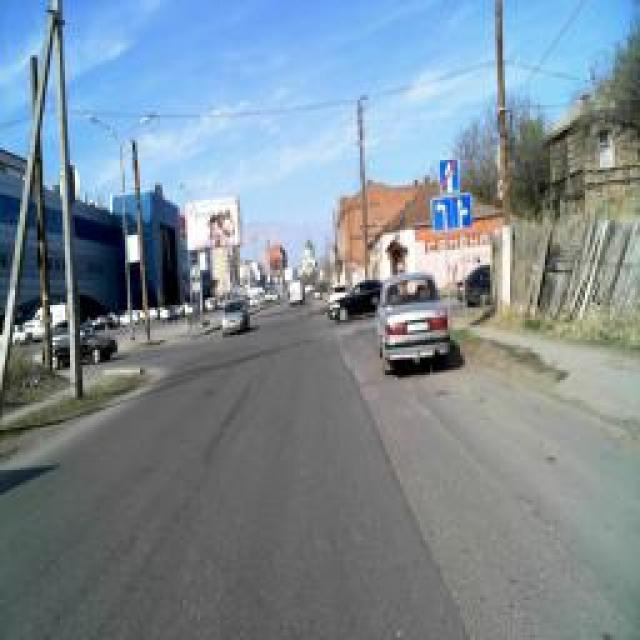sign: (496, 175, 504, 200)
